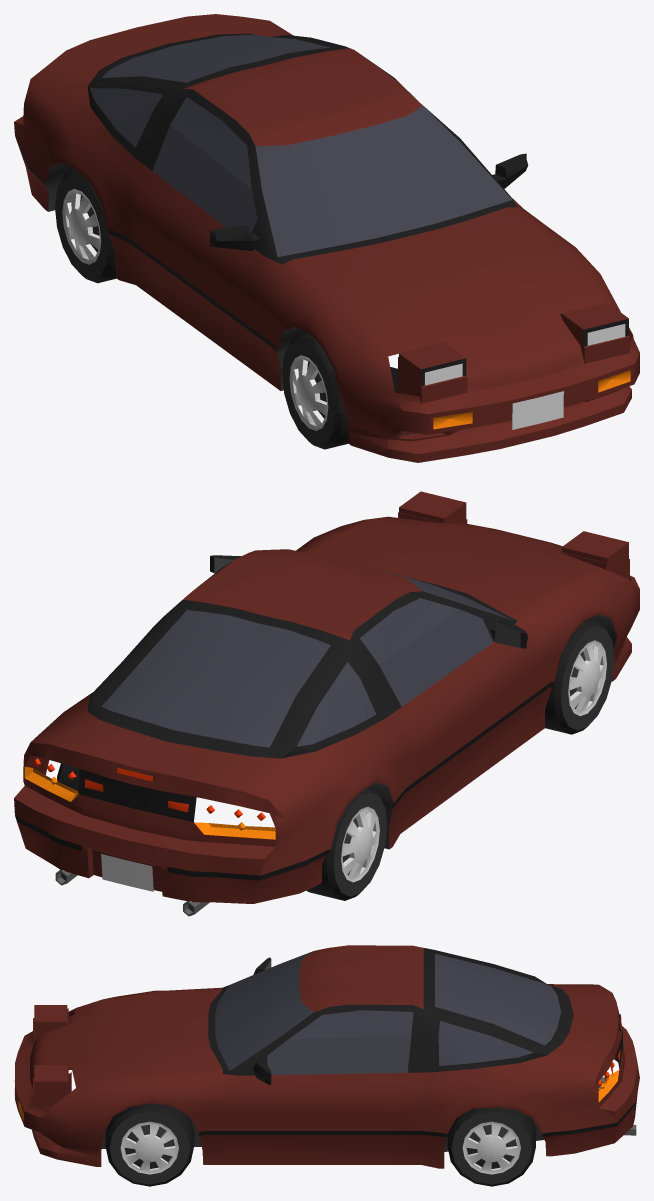
The model's file is nissan-180mx.glb.
3 views of the same model, one above another, from view 1: azimuth 30°, elevation 25°; view 2: azimuth 150°, elevation 25°; view 3: azimuth 270°, elevation 25° (orthographic). The views are drawn at different scales.
Parts seen in each view (by area): view 1: body, FRW, RRW, POPUP_R, POPUP_L; view 2: body, FRW, RRW, POPUP_R, POPUP_L; view 3: body, FLW, RLW, POPUP_L, POPUP_R.
Boxes of the visible parts, left/top/right/bottom form: body: left=14, top=14, right=639, bottom=462; FRW: left=282, top=333, right=348, bottom=449; RRW: left=55, top=169, right=116, bottom=283; POPUP_R: left=399, top=342, right=466, bottom=388; POPUP_L: left=561, top=302, right=628, bottom=346; body: left=14, top=512, right=639, bottom=916; FRW: left=545, top=618, right=614, bottom=734; RRW: left=306, top=787, right=387, bottom=900; POPUP_R: left=561, top=531, right=628, bottom=575; POPUP_L: left=399, top=491, right=466, bottom=523; body: left=14, top=945, right=639, bottom=1174; FLW: left=105, top=1103, right=194, bottom=1186; RLW: left=447, top=1107, right=535, bottom=1186; POPUP_L: left=34, top=1065, right=67, bottom=1101; POPUP_R: left=34, top=1005, right=67, bottom=1039.
Bounding box in the file's own units: 2 × 1.31 × 4.54.
